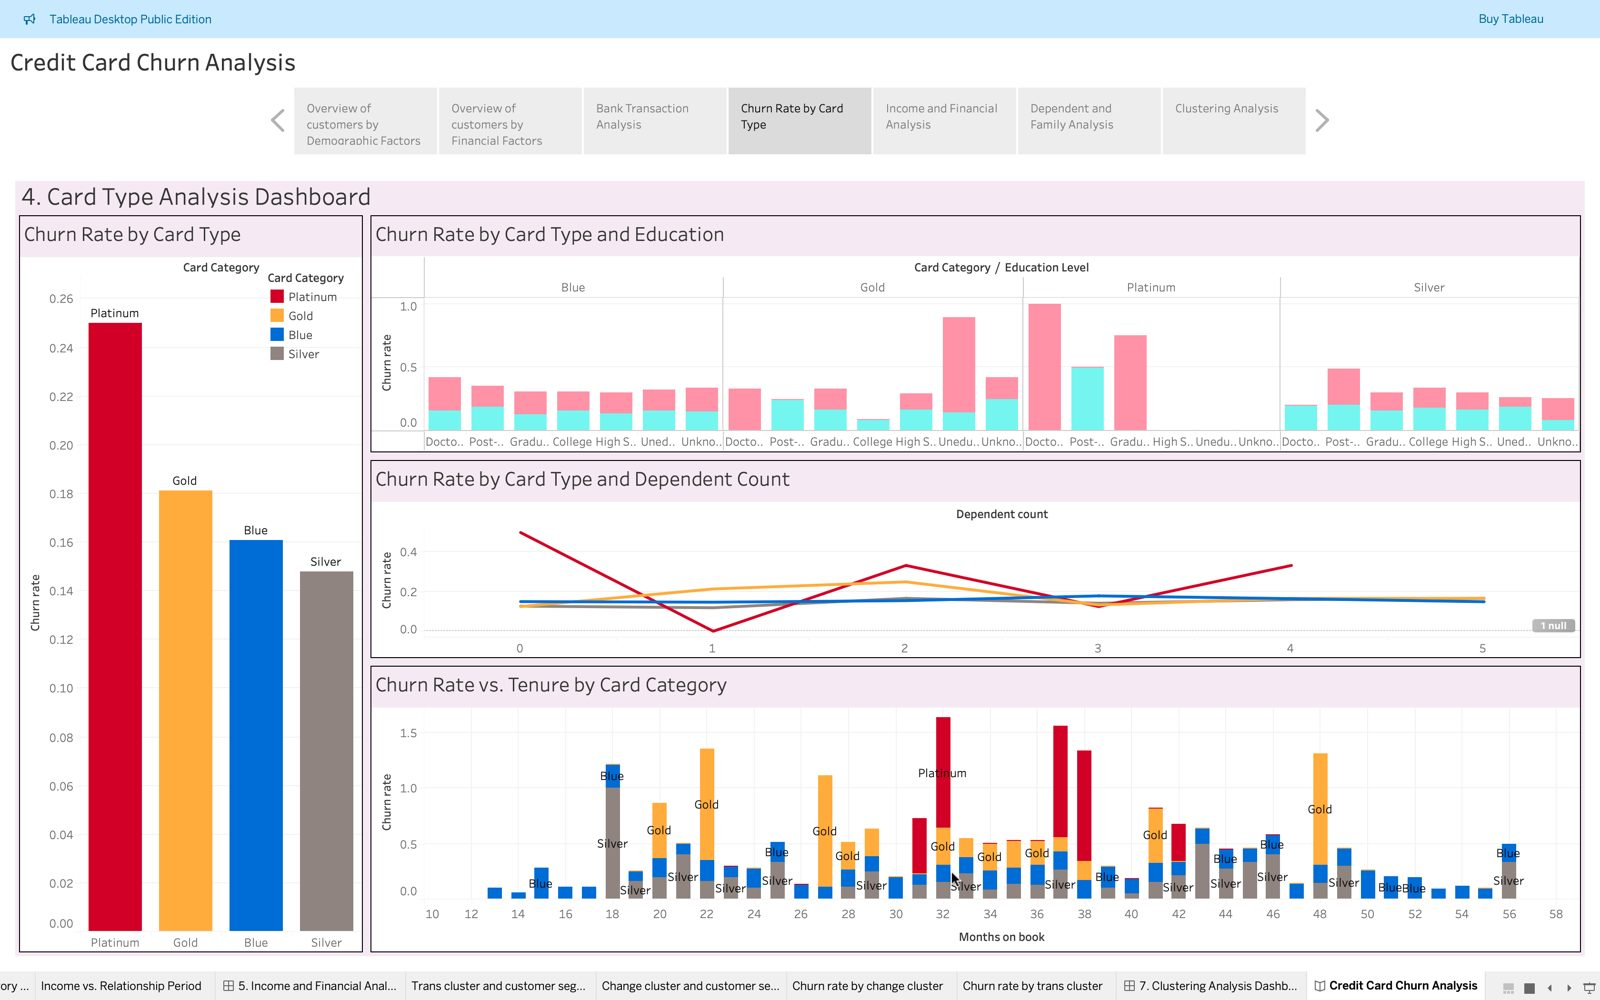

This screenshot's page, from the dashboard's own definition file:
{"tool":"tableau","page":{"name":"4. Card Type Analysis Dashboard","canvas":[1000,1000],"units":"permille","ordinal":3},"visuals":[{"type":"title","box":[5.5,8.7,989.1,34.9]},{"type":"worksheet","title":"Churn Rate by Card Type","mark":"Automatic","rows":["Calculation_5717460502736887826"],"cols":["Card_Category"],"box":[5.5,43.6,221.7,947.7]},{"type":"worksheet","title":"Churn Rate by Card Type and Education","mark":"Automatic","rows":["Calculation_5717460502736887826"],"cols":["Card_Category","Education_Level"],"box":[227.2,43.6,767.4,311.1]},{"type":"legend","title":"Churn Rate by Card Type","param":"[federated.0rdieu80g1d7rm18i24471ab21uw].[none:Card_Category:nk]","box":[164.1,122,81.7,142.7]},{"type":"worksheet","title":"Churn Rate by Card Type and Dependent Count","mark":"Line","rows":["Calculation_5717460502736887826"],"cols":["Dependent_count"],"box":[227.2,354.6,767.4,262.1]},{"type":"worksheet","title":"Churn Rate vs. Tenure by Card Category","mark":"Bar","rows":["Calculation_5717460502736887826"],"cols":["Months_on_book"],"box":[227.2,616.7,767.4,374.6]}]}

Visuals, with their boxes on the dashboard's canvas, which has no fixed pixel size, in thousandths of its width and height (x1, y1, x2, y2). These are canvas units, not pixel positions in the 1600x1000 screenshot, which may show the page scaled, cropped or inside an application window:
title: box=[6, 9, 995, 44]
"Churn Rate by Card Type" worksheet: box=[6, 44, 227, 991]
"Churn Rate by Card Type and Education" worksheet: box=[227, 44, 995, 355]
"Churn Rate by Card Type" legend: box=[164, 122, 246, 265]
"Churn Rate by Card Type and Dependent Count" worksheet (Line marks): box=[227, 355, 995, 617]
"Churn Rate vs. Tenure by Card Category" worksheet (Bar marks): box=[227, 617, 995, 991]
